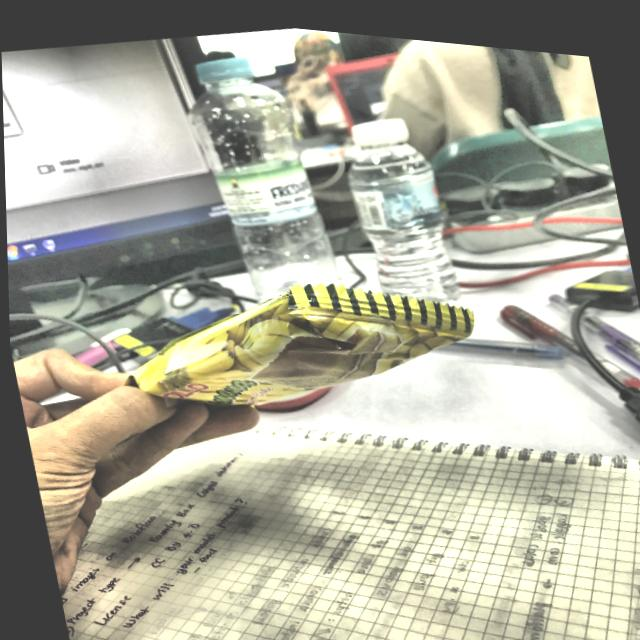Plastic: (112, 228, 488, 450)
